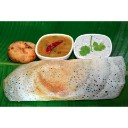dosa: (2, 59, 126, 100)
